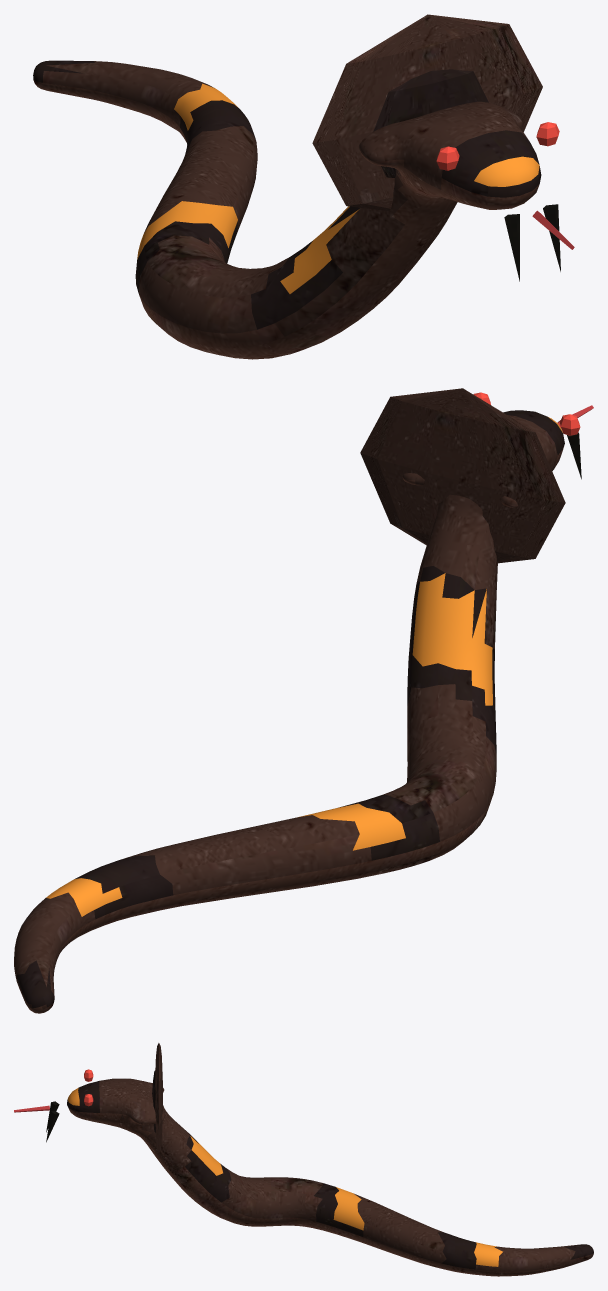
File: boss_07.glb
3 views of the same model, one above another, from view 1: azimuth 30°, elevation 25°; view 2: azimuth 150°, elevation 25°; view 3: azimuth 270°, elevation 25° (orthographic). The views are drawn at different scales.
Visible parts, largest first — view 1: boss_07; view 2: boss_07; view 3: boss_07.
Part boxes in pixels (x1,y1,x2,y2): boss_07: [33, 14, 574, 359]; boss_07: [14, 388, 593, 1013]; boss_07: [14, 1043, 593, 1276].
Size of the model in its own units: 1.3 by 1.78 by 4.69.
Materials: 7 (4 with a texture image).
